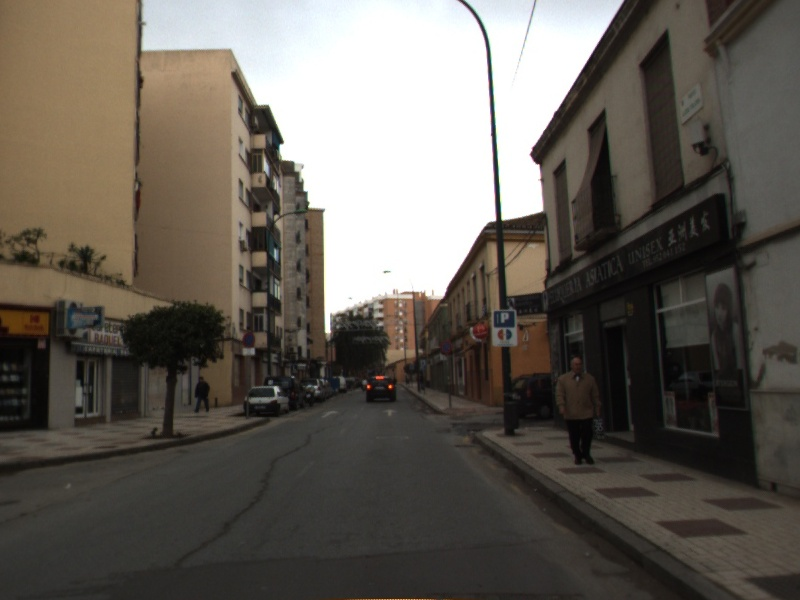STRAIGHT: (318, 408, 341, 419), (380, 407, 400, 418)
